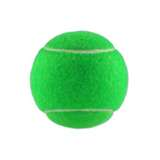tennis ball: (28, 29, 131, 131)
